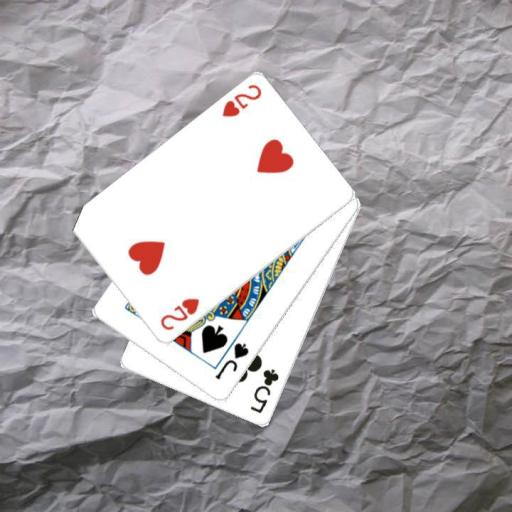2H: (218, 81, 263, 120), (157, 295, 202, 333)
5C: (247, 367, 281, 416)
JS: (212, 340, 251, 382)
